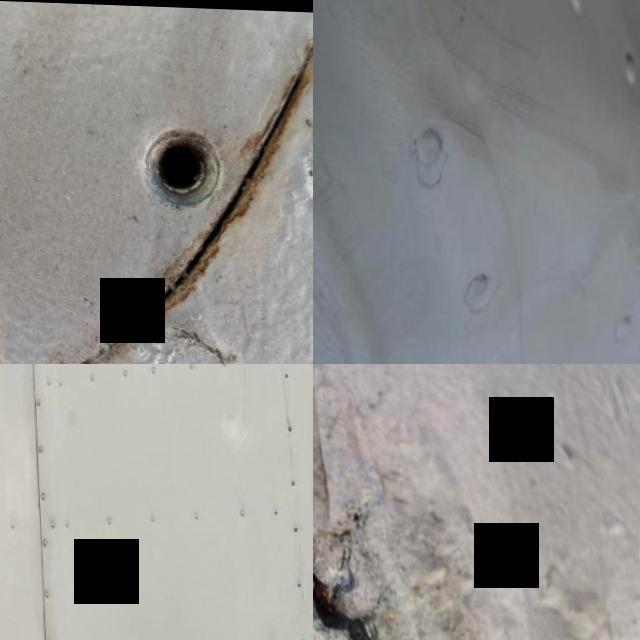Crack: (313, 516, 412, 640)
Dent: (402, 53, 521, 163), (574, 168, 640, 275)
Missing_Fastener: (115, 95, 252, 232)
